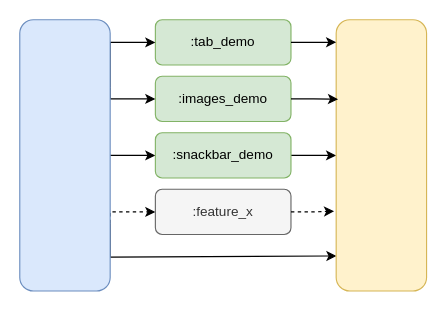
This 446x311 diagram has some shape labels left out. Each missing label, with the box of its shape:
:app: (19, 19, 110, 291)
:core: (335, 19, 427, 291)
